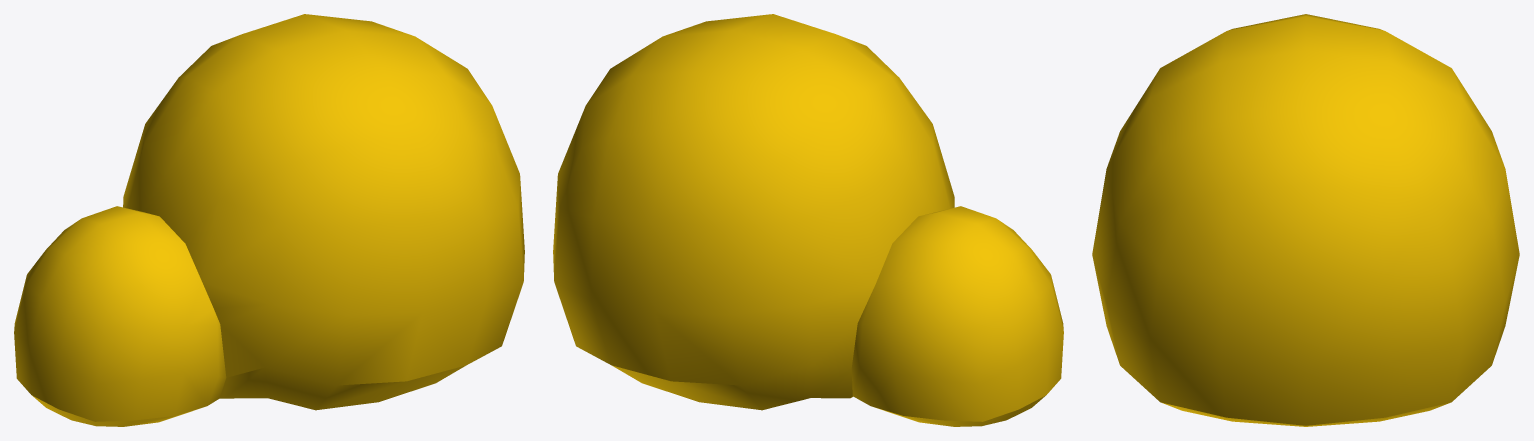
Rendered from pollen.fbx.
3 renders of one model, left to right at view 1: azimuth 30°, elevation 25°; view 2: azimuth 150°, elevation 25°; view 3: azimuth 270°, elevation 25°, orthographic. The views are drawn at different scales.
Parts seen in each view (by area): view 1: pollen; view 2: pollen; view 3: pollen.
Boxes of the visible parts, x1,y1,x2,y2 form: pollen: [14, 14, 524, 426]; pollen: [553, 14, 1063, 426]; pollen: [1092, 14, 1519, 426].
Size of the model in its own units: 31.26 by 20.12 by 23.26.
